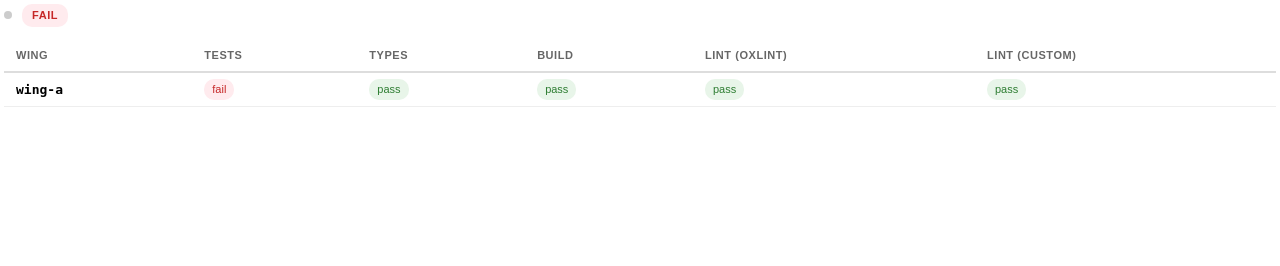
QualityPanel › expands failure details on click, showing first 5 plus a remaining count
Step 1. Click the button with class "signal-pill" showing "fail" → [219, 89], box top-left (204, 79), bottom-right (234, 100)
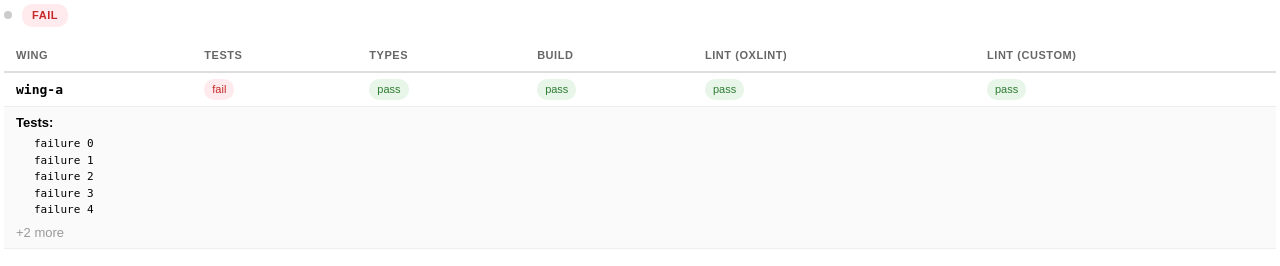
expect the number of list items is 5: met, box top-left (34, 137), bottom-right (94, 150); top-left (34, 154), bottom-right (94, 166); top-left (34, 170), bottom-right (94, 183); top-left (34, 186), bottom-right (94, 200); top-left (34, 203), bottom-right (94, 216)
expect the text "+2 more" is shown: met, box top-left (16, 224), bottom-right (64, 240)
